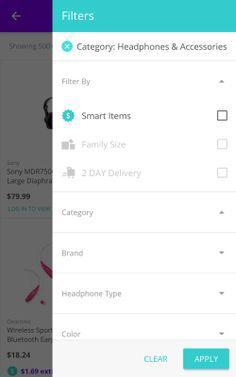button: (183, 349, 231, 371)
checkbox: (217, 139, 230, 151), (63, 41, 74, 54), (218, 111, 229, 123), (218, 168, 229, 179)
dropdown: (54, 233, 236, 274), (54, 274, 236, 315), (55, 193, 236, 233), (54, 315, 236, 341)
icon: (62, 166, 78, 182), (61, 140, 78, 153), (64, 108, 76, 124), (218, 78, 228, 87)
label: (80, 168, 144, 180), (81, 139, 131, 153), (82, 112, 135, 125), (61, 77, 94, 88), (144, 356, 170, 365)
